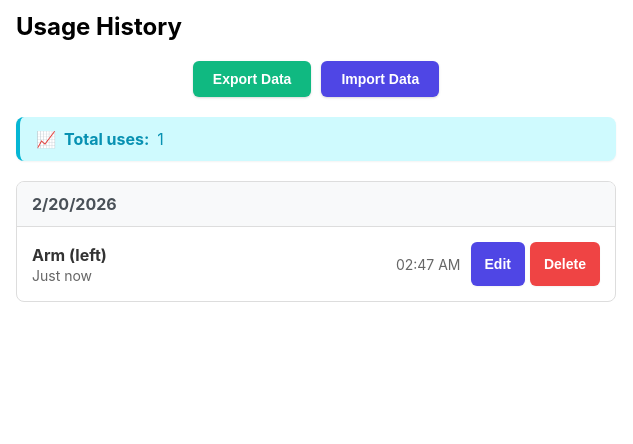
Test: UsageHistory - inline editing › opens edit form when clicking Edit
Step 1. Click the button "Edit" → x=498, y=264, box [470, 242, 525, 286]
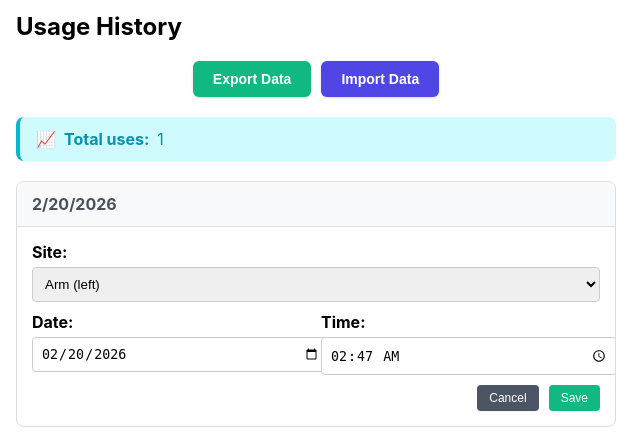
expect the text "Site:" is shown: met, box [32, 242, 67, 262]
expect the text "Date:" is shown: met, box [32, 312, 73, 332]
expect the text "Time:" is shown: met, box [321, 312, 366, 332]
